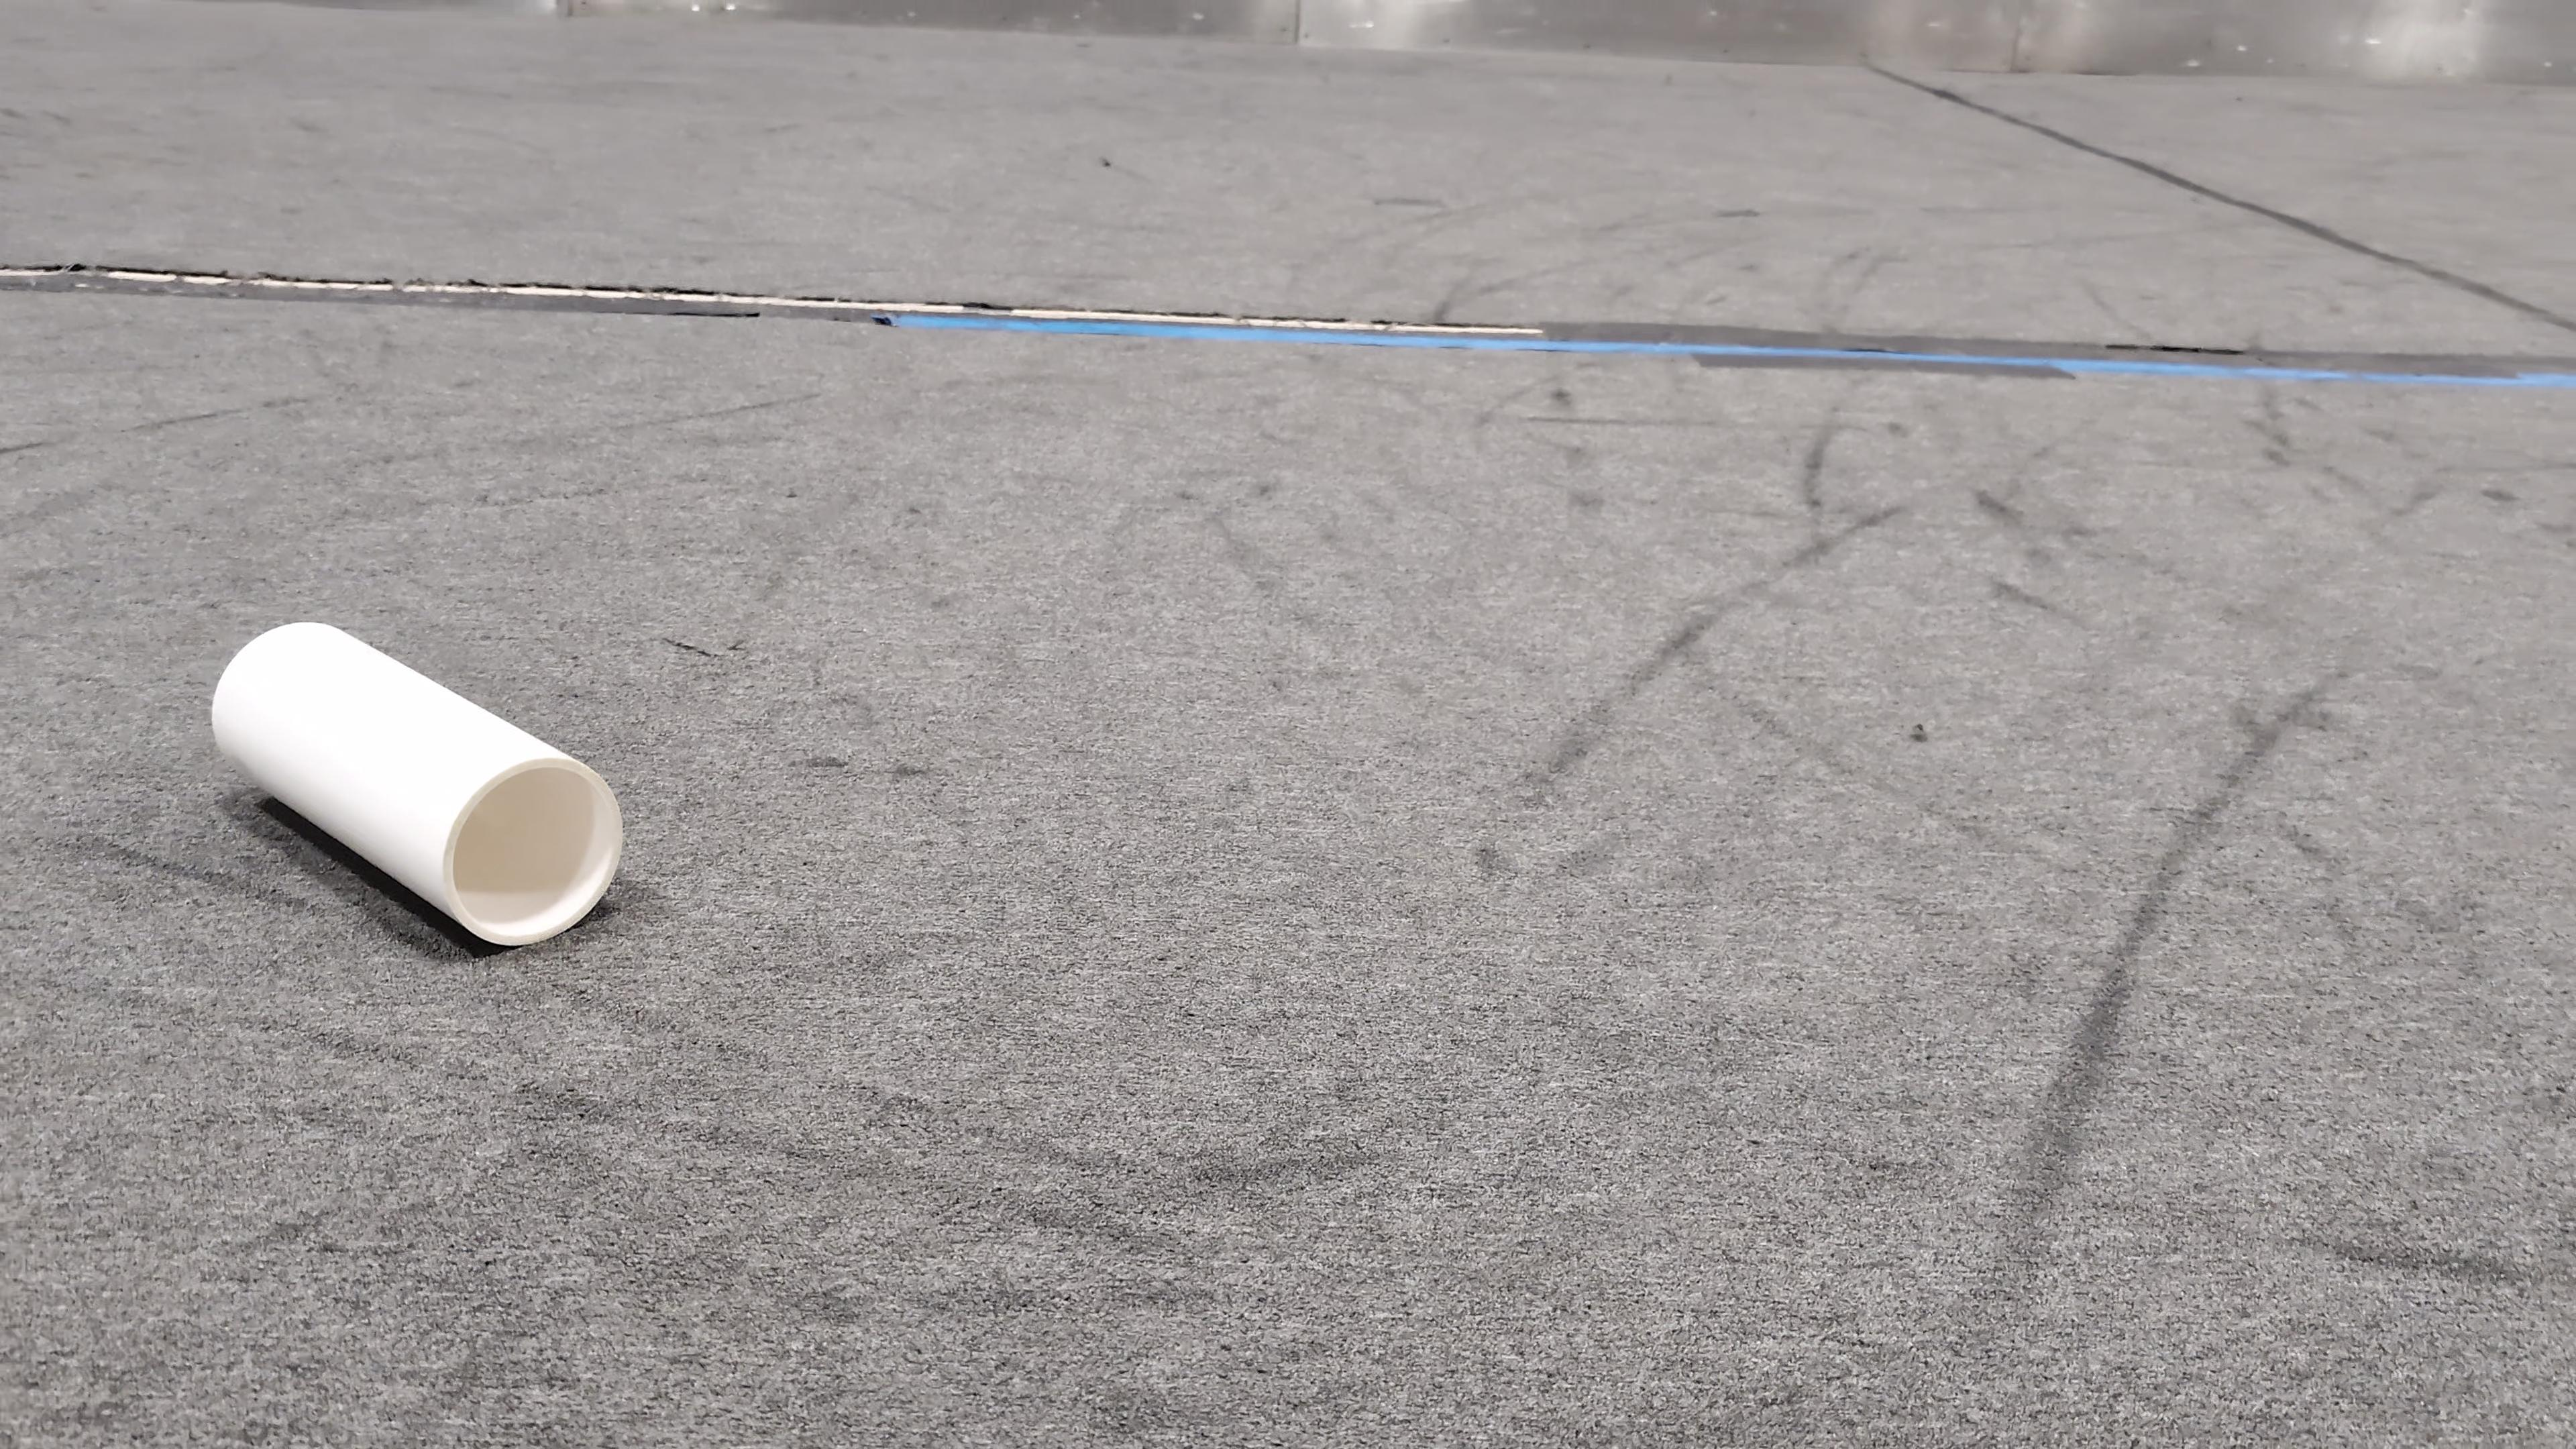coral: (209, 616, 625, 947)
